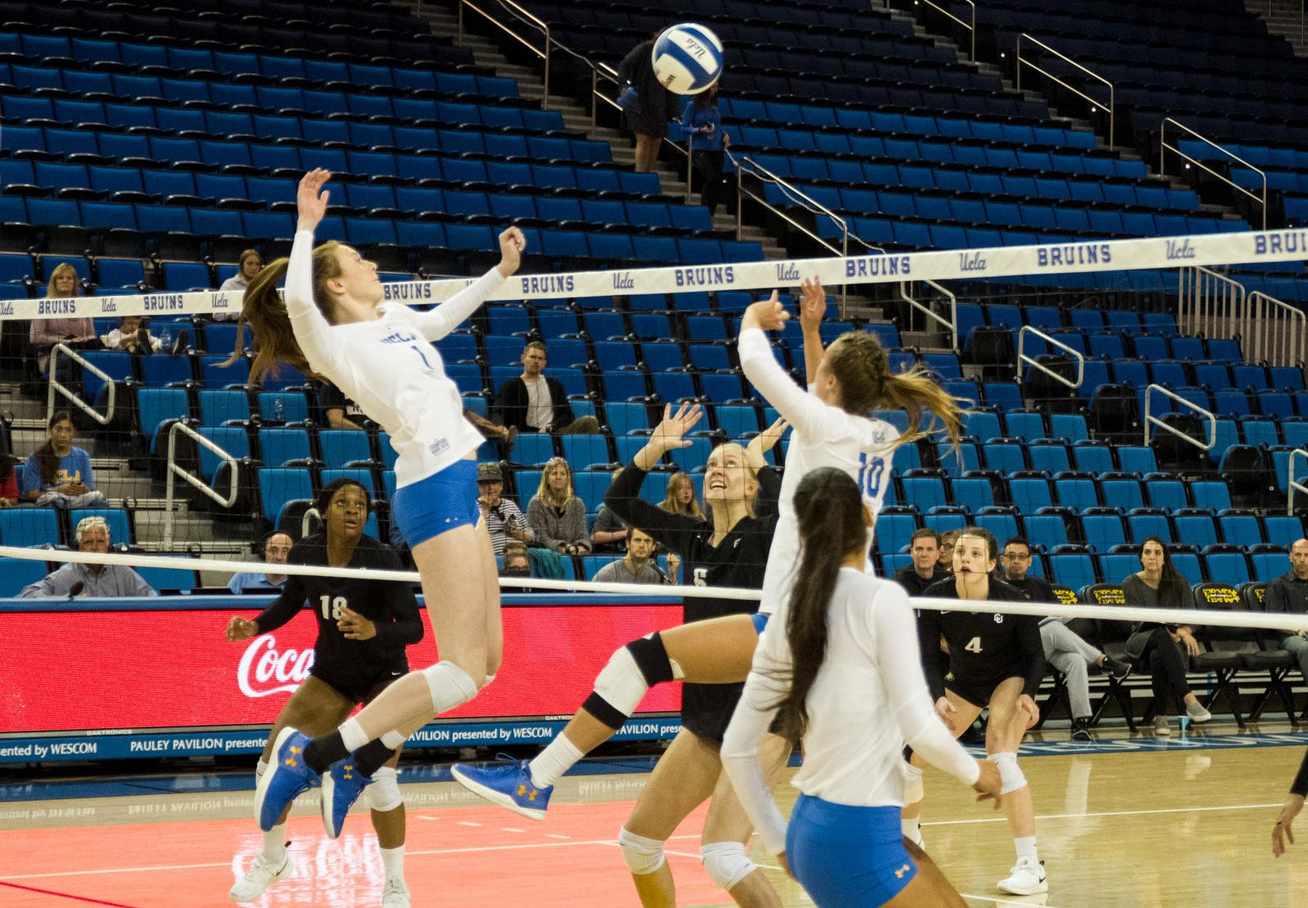ballon_volley: (650, 20, 725, 94)
